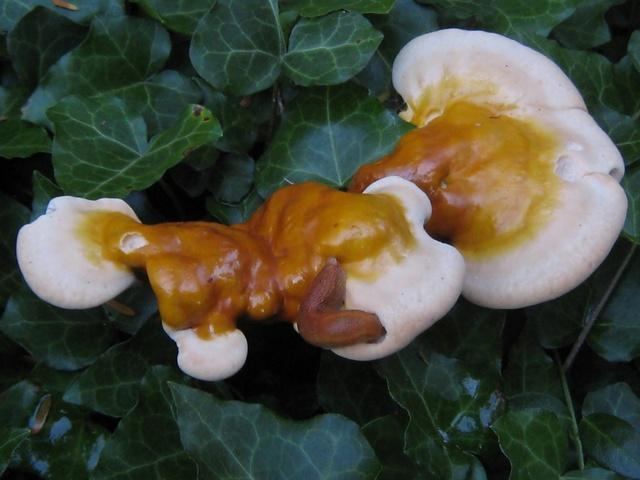Non-edible Mushroom: (15, 174, 466, 381), (349, 22, 632, 305)
